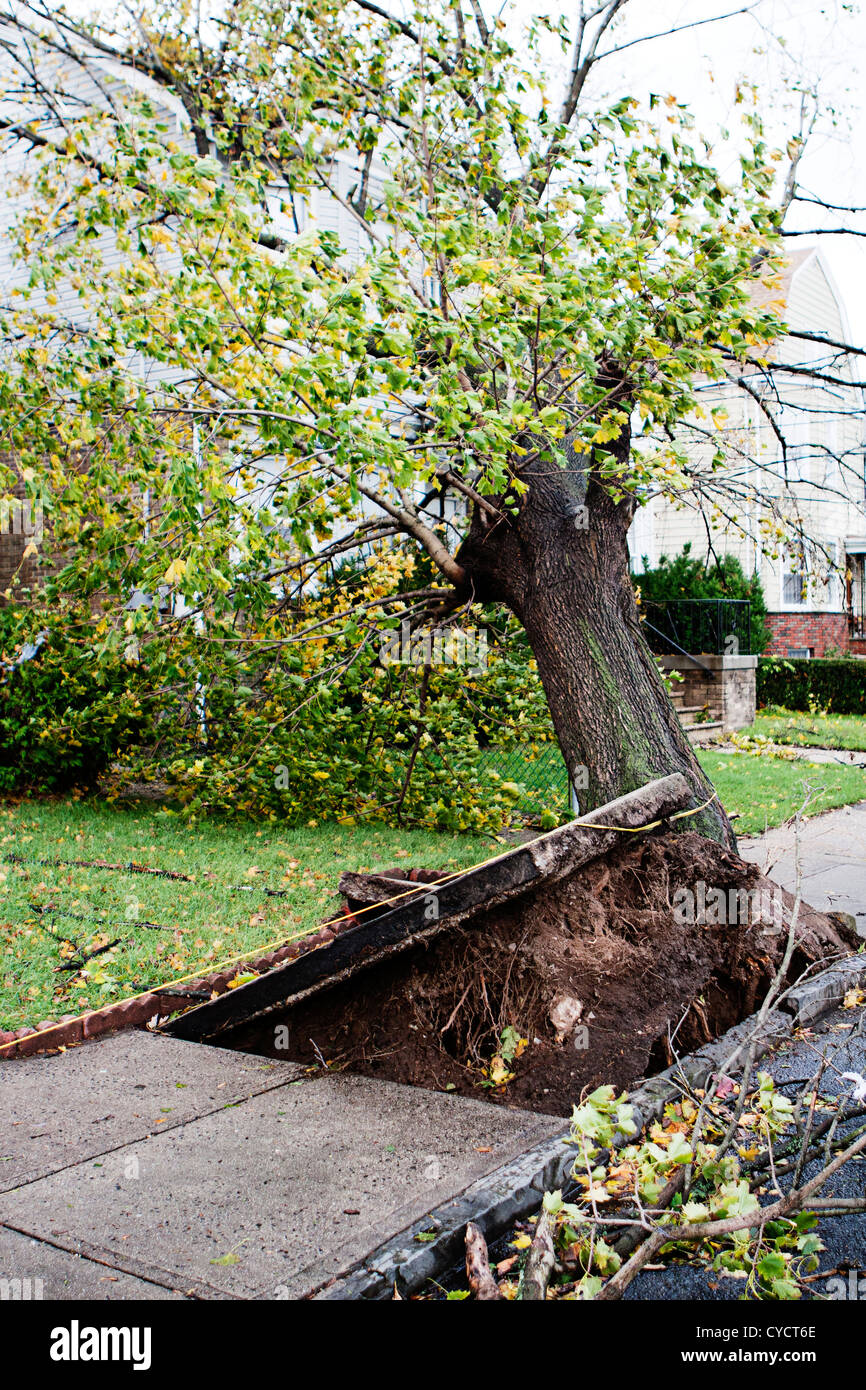Tree: (13, 1, 819, 952)
